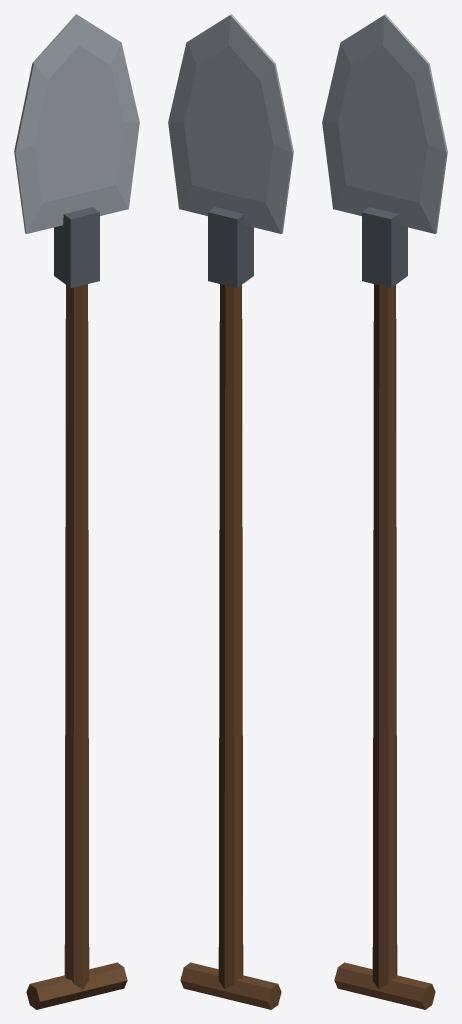
File: g-shovel.glb
3 views of the same model, side by side, from view 1: azimuth 30°, elevation 25°; view 2: azimuth 150°, elevation 25°; view 3: azimuth 330°, elevation 25° (orthographic).
Visible parts, largest first — view 1: g-shovel; view 2: g-shovel; view 3: g-shovel.
Part boxes in pixels (x1,y1,x2,y2): g-shovel: (14,14,139,1009); g-shovel: (168,14,293,1009); g-shovel: (322,14,447,1009).
Bounding box in the file's own units: 0.17 × 1.28 × 0.04.
